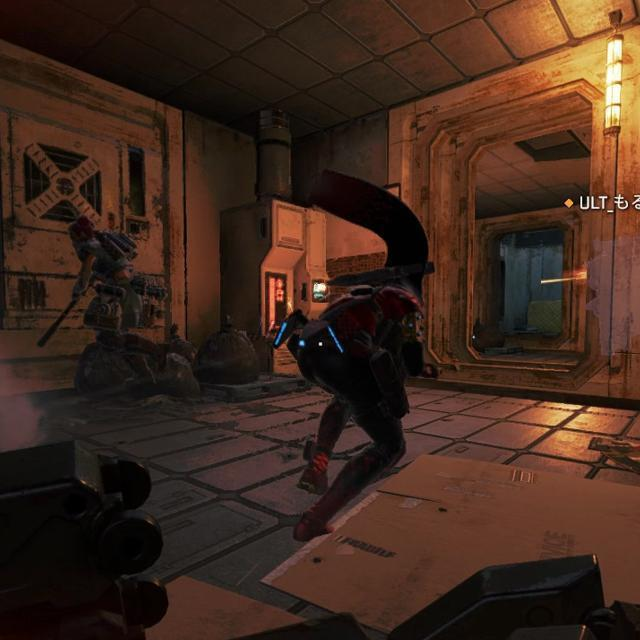avatar: (285, 275, 428, 546), (66, 212, 146, 337)
